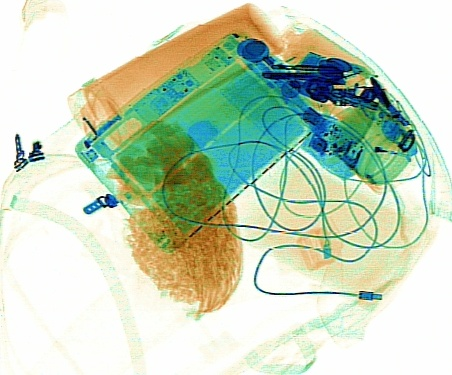lighter: (337, 123, 416, 158)
